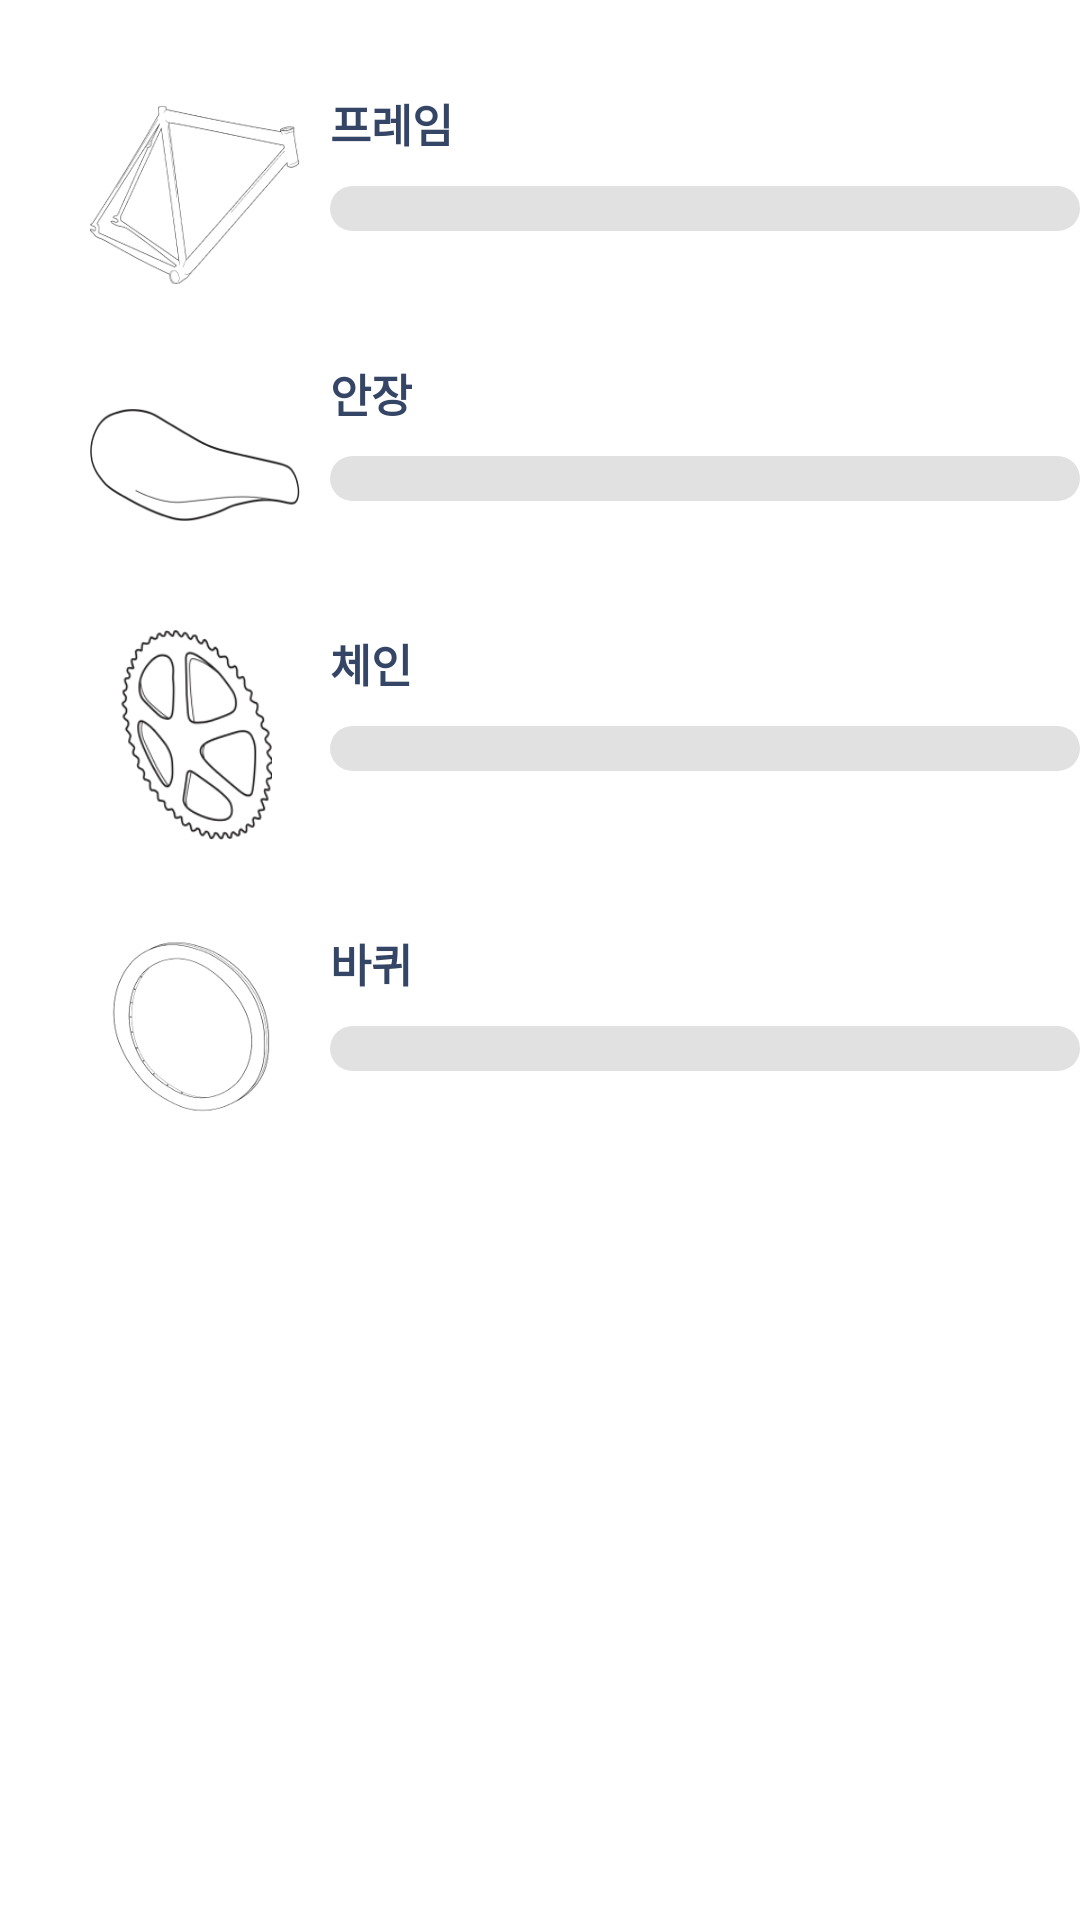

Named icons in this screenshot (1080×1920) and their centers, (x,y):
chair: (195,465)
tip wheel: (191,1026)
